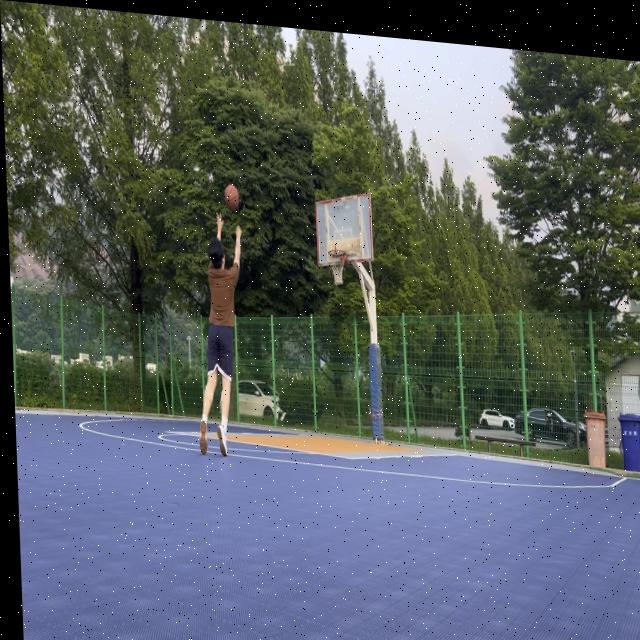basketball: (223, 182, 240, 212)
hoop: (328, 249, 348, 288)
